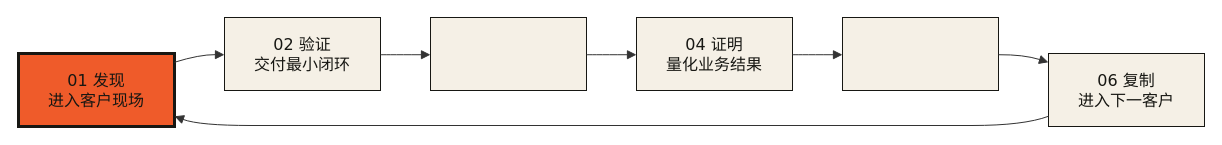
Some shapes in this 1222 by 145 pixel diagram are drawn without their labels. Each missing label, with the centre of its shape:
"03 激活 改变真实行为" goes at point (508, 53).
"05 回流 沉淀产品能力" goes at point (920, 53).
